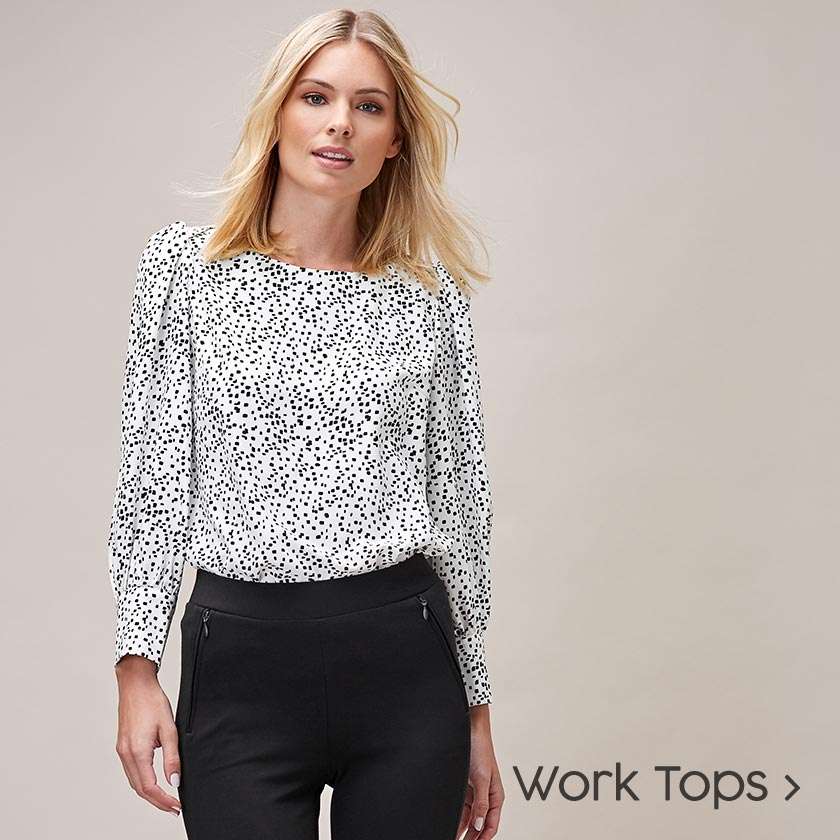F_W_suit jacket: (93, 229, 498, 649)
